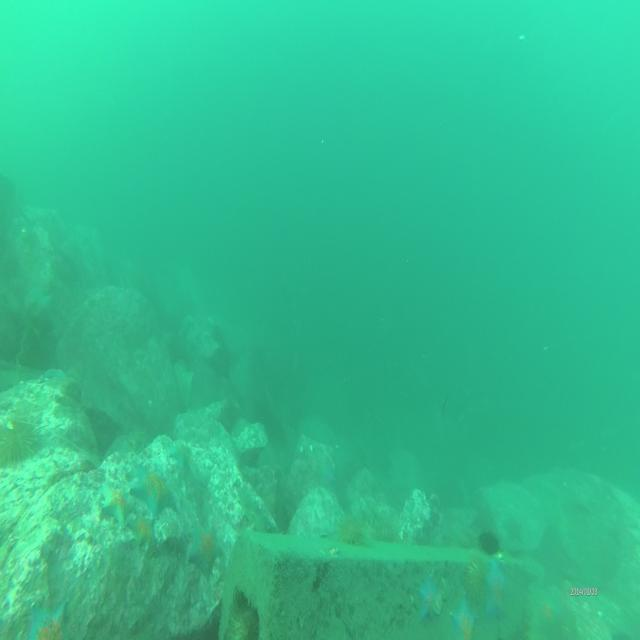echinus: (0, 412, 42, 463), (225, 594, 263, 640), (335, 512, 369, 552), (368, 507, 395, 549), (463, 556, 485, 601), (476, 526, 500, 558)
starfish: (135, 462, 178, 515), (187, 516, 219, 576), (26, 597, 69, 640), (97, 482, 135, 527), (532, 593, 562, 640), (484, 558, 507, 617), (451, 592, 477, 640), (413, 576, 440, 622), (128, 515, 160, 553), (169, 438, 193, 472)
